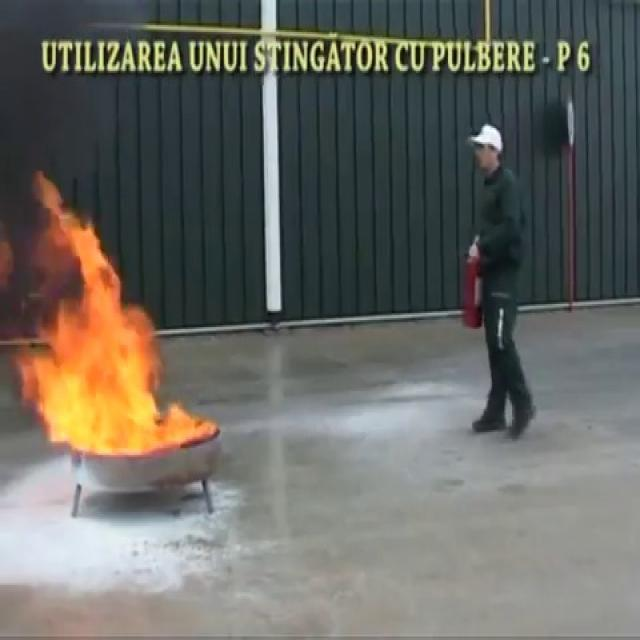Fire: (8, 176, 210, 460)
Smoke: (0, 0, 149, 288)
